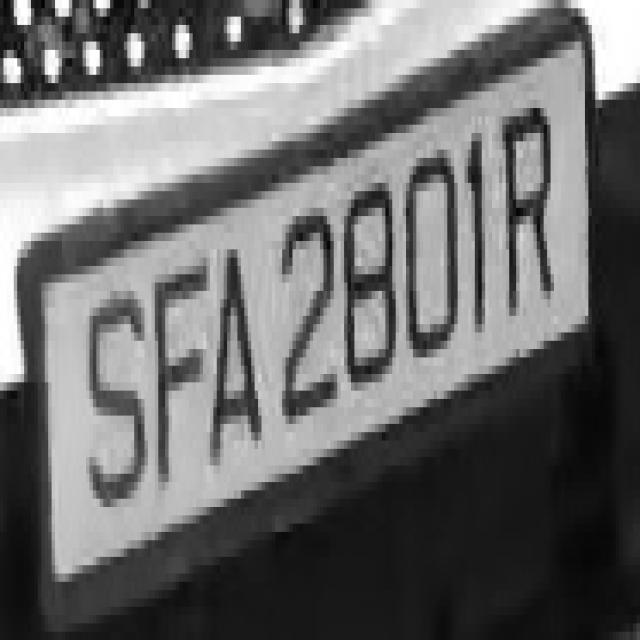0: (403, 133, 468, 374)
1: (461, 116, 492, 374)
2: (272, 200, 351, 440)
8: (333, 166, 402, 416)
A: (206, 232, 268, 498)
F: (144, 224, 210, 507)
R: (499, 75, 564, 332)
S: (79, 266, 152, 524)
